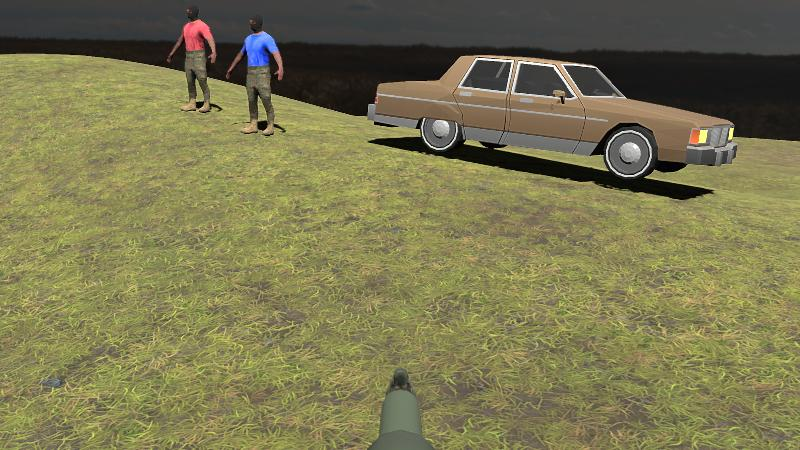Human: (226, 14, 283, 137), (168, 5, 216, 114)
car: (366, 56, 733, 180)
